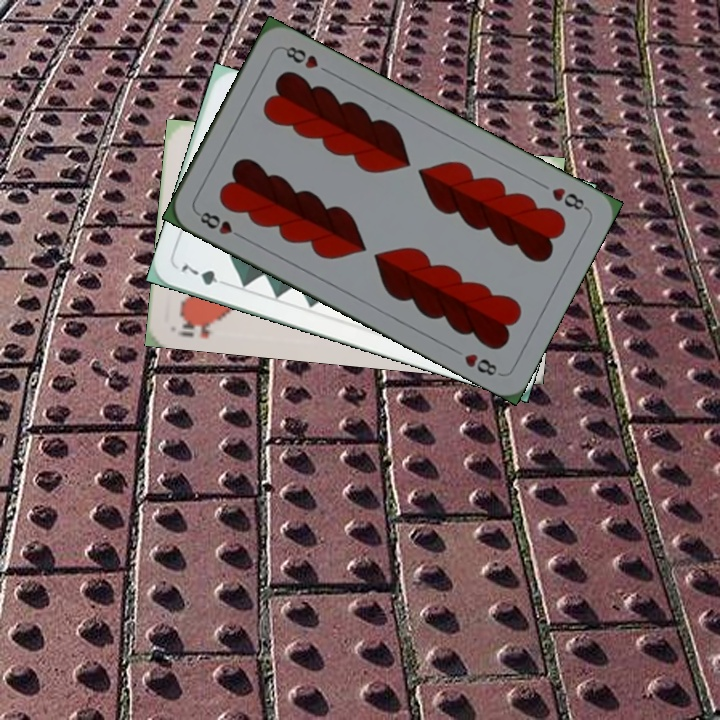G7: (176, 260, 233, 289)
H8: (193, 207, 247, 242), (547, 183, 591, 213)
HO: (173, 314, 217, 341)
